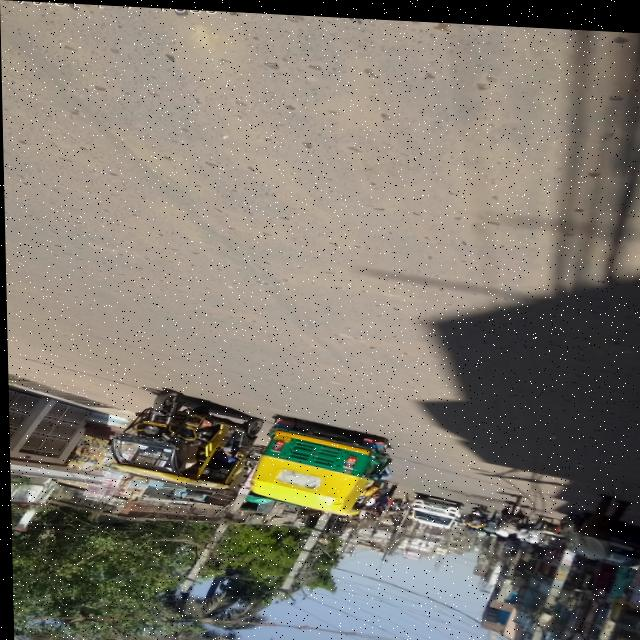plate: (141, 419, 166, 426), (271, 431, 289, 440), (426, 499, 441, 504), (470, 507, 478, 510)
